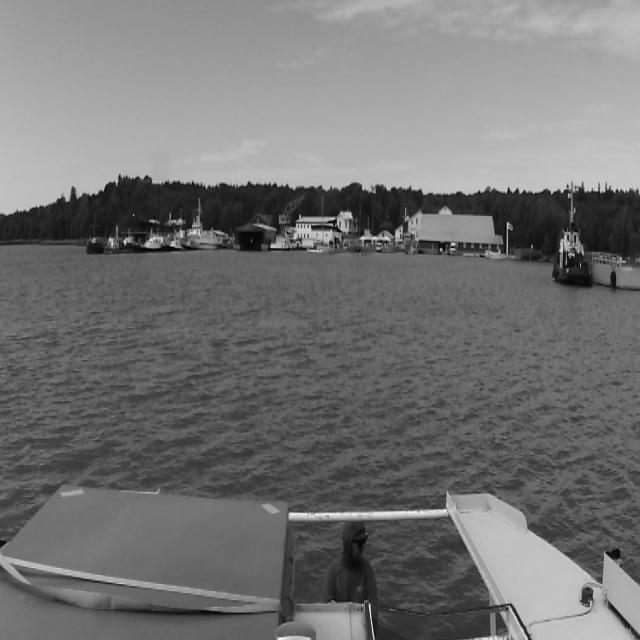ship: (552, 182, 592, 286), (486, 204, 506, 258), (186, 217, 220, 247), (450, 241, 456, 257), (376, 241, 382, 253)
